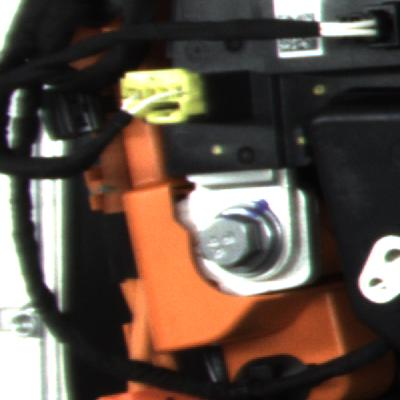nut_b: (192, 194, 305, 284)
